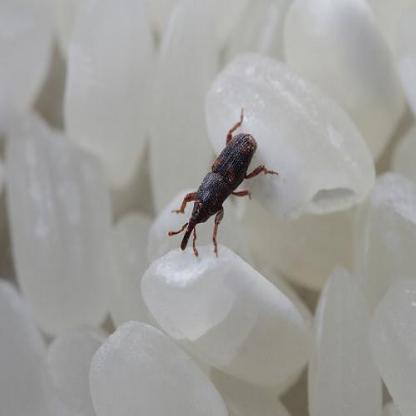rice-bug: (177, 119, 268, 256)
